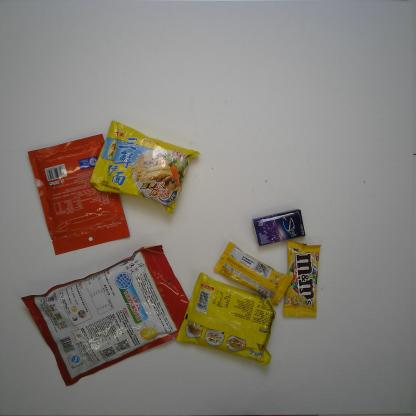Chocolate: (212, 241, 298, 307), (280, 239, 323, 319)
Dried Fruit: (26, 135, 133, 255)
Gum: (250, 208, 308, 248)
Instant Drink: (18, 243, 197, 387)
Instant Noodles: (89, 119, 204, 217), (176, 271, 278, 371)
